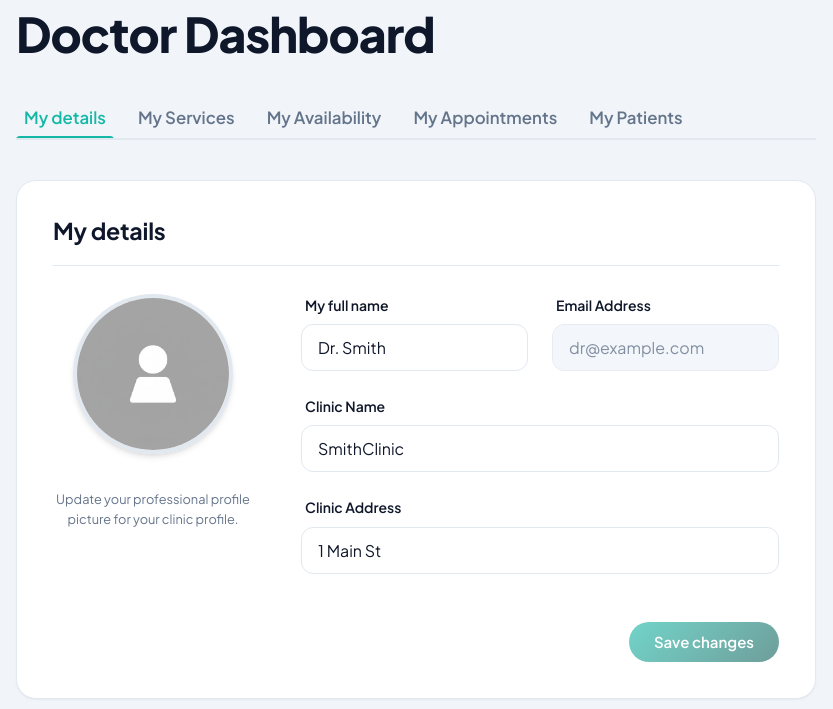
Test: DoctorDashboardPage › switching to appointments tab shows appointments section
Step 1. Click the button "My Appointments" → (485,117), box 405,95 -> 565,140
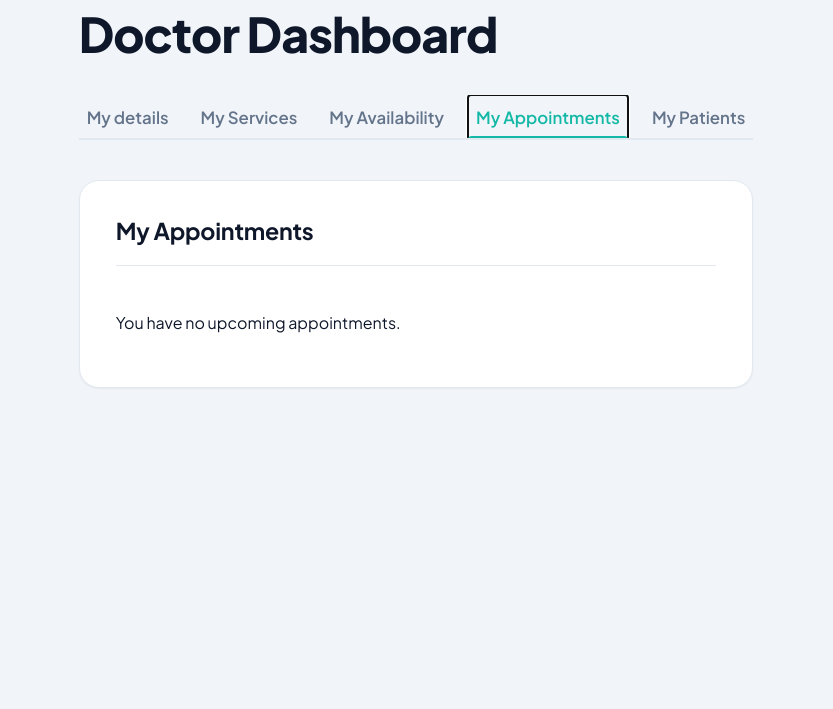
Expected: the text "You have no upcoming appointments." is shown, 116,312 -> 401,333
